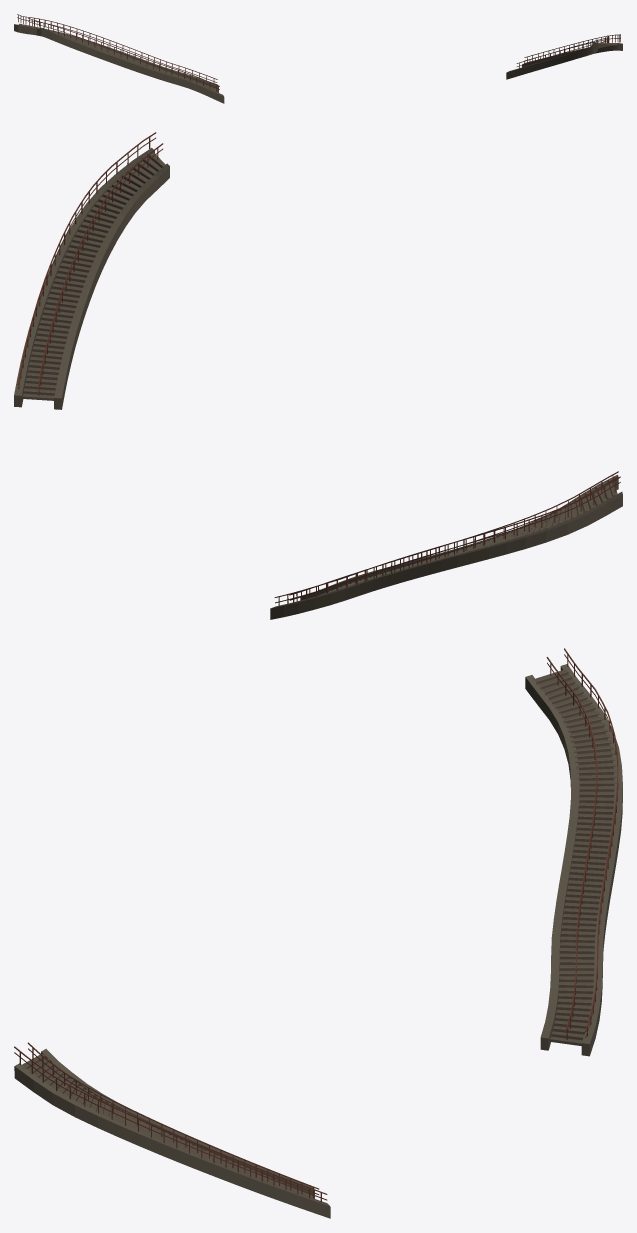
The model's file is Stairs.fbx.
The picture shows the model from 3 angles, top to bottom: view 1: azimuth 30°, elevation 25°; view 2: azimuth 150°, elevation 25°; view 3: azimuth 270°, elevation 25°; orthographic projection. The views are drawn at different scales.
Parts seen in each view (by area): view 1: StairsBorder.002, StairsBorder, StairsRailing.003, StairsBorder.003, StairsRailing.002, Stairs.001, StairsBorder.001, StairsRailing.001, StairsRailing; view 2: Stairs, StairsBorder.003, StairsBorder, StairsBorder.001, Stairs.001, StairsRailing.003, StairsRailing.002, StairsRailing.001, StairsRailing, StairsBorder.002; view 3: Stairs.001, StairsBorder.001, StairsBorder.002, StairsBorder.003, Stairs, StairsRailing.001, StairsBorder, StairsRailing, StairsRailing.003, StairsRailing.002.
Part boxes in pixels (x1,y1,x2,y2): StairsBorder.002: (36, 28, 224, 103); StairsBorder: (506, 42, 597, 79); StairsRailing.003: (17, 14, 217, 83); StairsBorder.003: (14, 24, 218, 92); StairsRailing.002: (28, 18, 219, 91); Stairs.001: (18, 23, 217, 92); StairsBorder.001: (522, 43, 622, 67); StairsRailing.001: (524, 34, 620, 62); StairsRailing: (516, 35, 608, 68); Stairs: (22, 152, 165, 400); StairsBorder.003: (270, 491, 622, 619); StairsBorder: (54, 163, 169, 409); StairsBorder.001: (14, 148, 154, 407); Stairs.001: (320, 479, 617, 594); StairsRailing.003: (274, 476, 620, 605); StairsRailing.002: (289, 471, 618, 602); StairsRailing.001: (17, 132, 156, 389); StairsRailing: (37, 143, 163, 395); StairsBorder.002: (300, 474, 618, 600); Stairs.001: (533, 669, 616, 1045); StairsBorder.001: (14, 1063, 330, 1218); StairsBorder.002: (525, 675, 579, 1050); StairsBorder.003: (560, 664, 622, 1056); Stairs: (22, 1054, 314, 1198); StairsRailing.001: (14, 1046, 327, 1202); StairsBorder: (41, 1048, 314, 1197); StairsRailing: (27, 1042, 319, 1198); StairsRailing.003: (564, 648, 618, 1037); StairsRailing.002: (546, 657, 597, 1039).
Size of the model in its own units: 4625 by 1268 by 3018.
